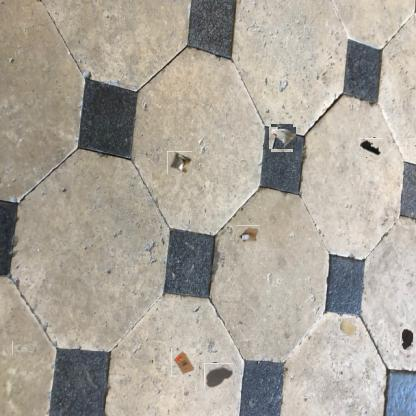dirty: (171, 348, 196, 376), (270, 126, 294, 150), (167, 151, 192, 174), (338, 318, 360, 340), (361, 137, 382, 159), (236, 225, 260, 244), (12, 340, 37, 354)
liquid: (205, 362, 232, 389), (400, 328, 414, 350)
